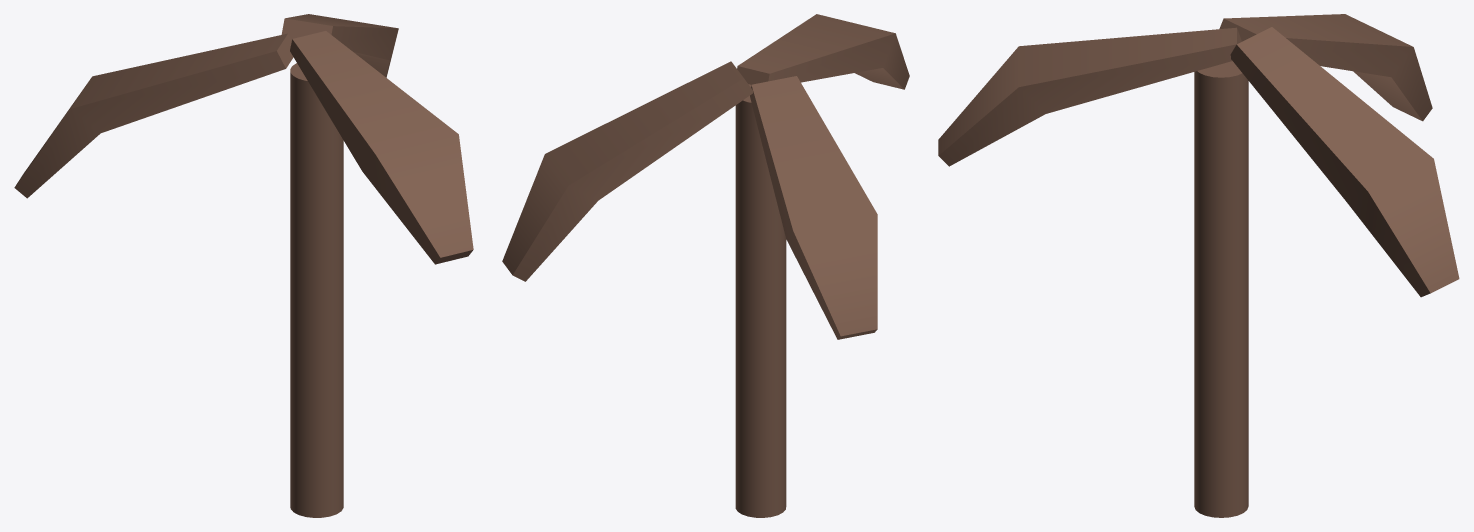
The model's file is tree.fbx.
3 views of the same model, side by side, from view 1: azimuth 30°, elevation 25°; view 2: azimuth 150°, elevation 25°; view 3: azimuth 270°, elevation 25° (orthographic). The views are drawn at different scales.
Visible parts, largest first — view 1: tree; view 2: tree; view 3: tree.
Boxes of the visible parts, left/top/right/bottom form: tree: left=14, top=14, right=473, bottom=517; tree: left=502, top=14, right=909, bottom=517; tree: left=938, top=14, right=1459, bottom=517.
Size of the model in its own units: 6.18 by 7.31 by 7.25.
